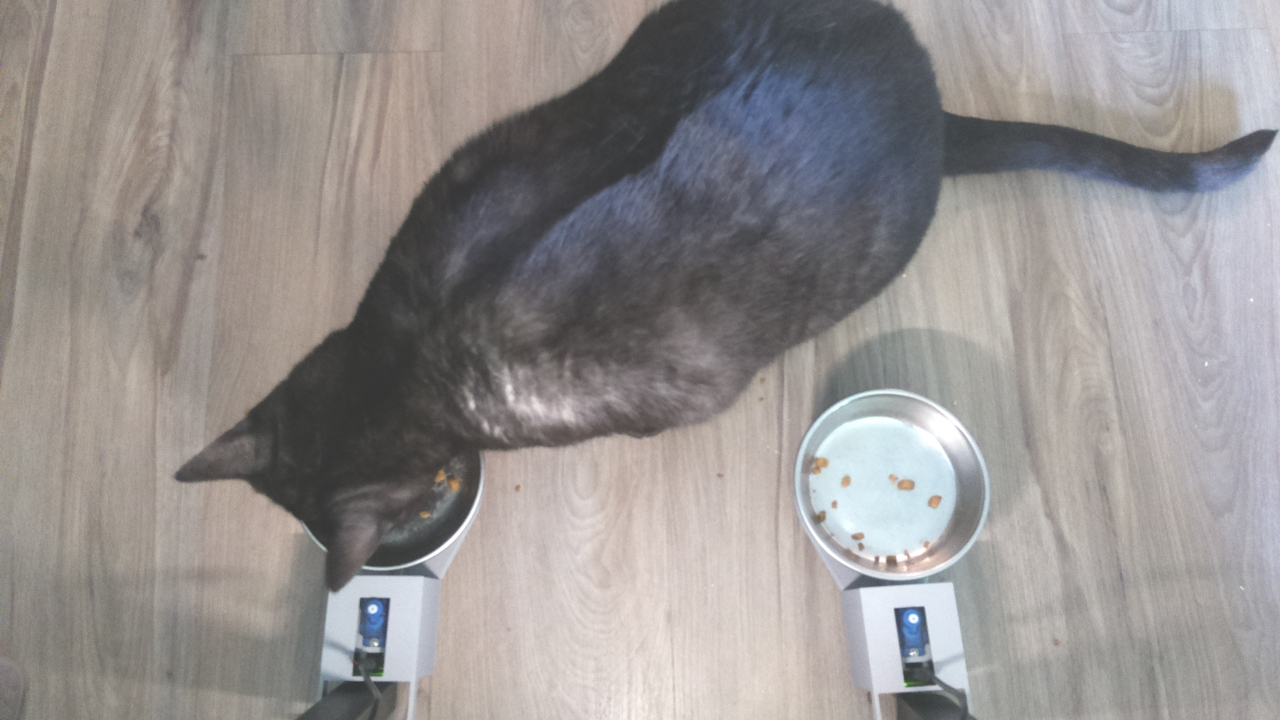open_bowl: (789, 383, 1001, 586)
saki_eating: (182, 342, 520, 596)
